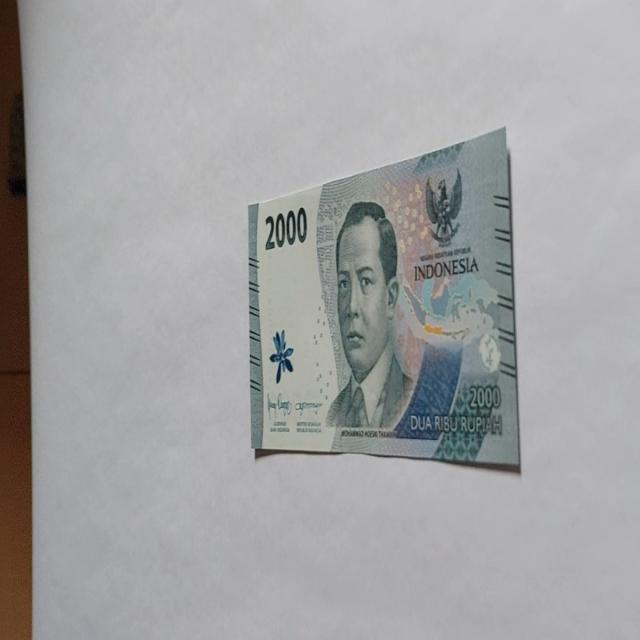dua ribu rupiah: (247, 126, 520, 470), (324, 198, 416, 432)
